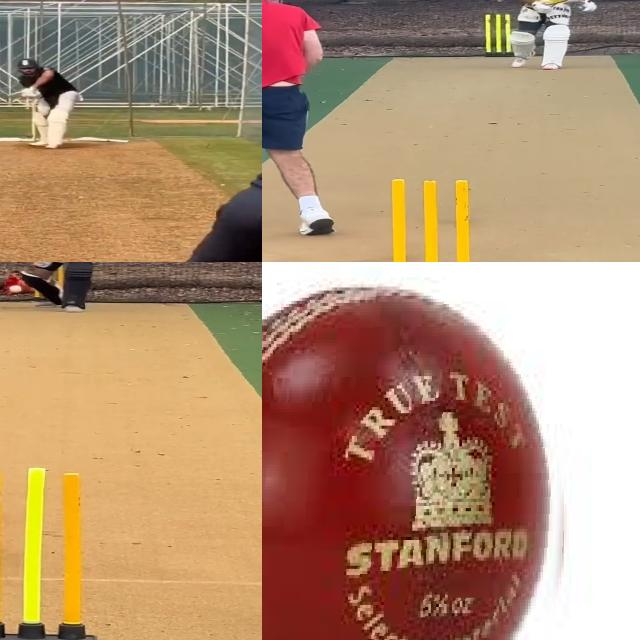Cricket ball: (262, 274, 579, 640), (7, 284, 26, 296)
Stumps: (0, 466, 99, 640), (379, 178, 487, 262), (484, 14, 513, 57)
